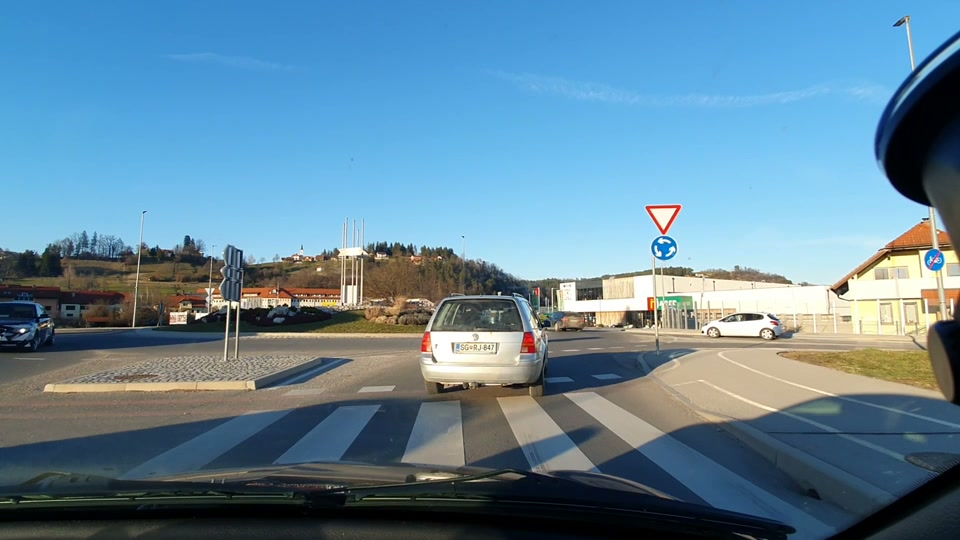vehicle_ign: (421, 288, 550, 410)
vehicle_l: (0, 297, 63, 353)
vehicle_r: (696, 310, 786, 342)
